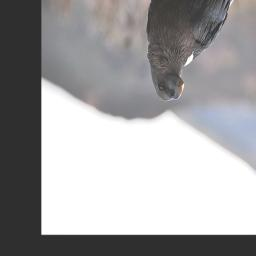Crow: (145, 0, 248, 105)
